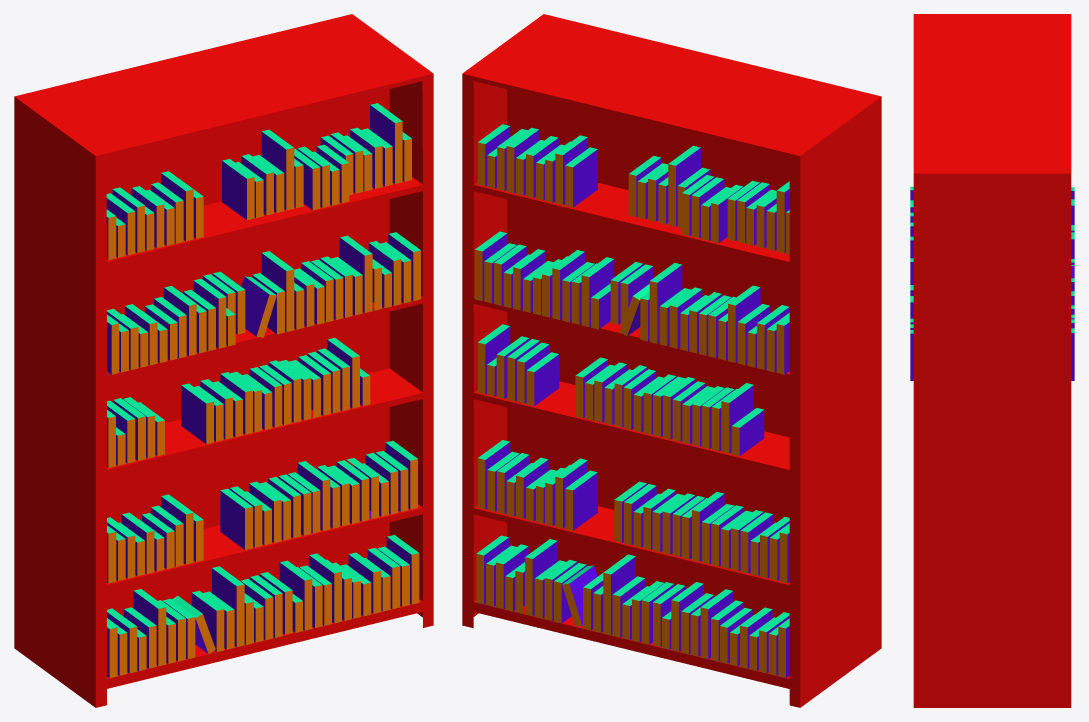
File: double_bookshelf_redid.fbx
The picture shows the model from 3 angles, left to right: view 1: azimuth 30°, elevation 25°; view 2: azimuth 150°, elevation 25°; view 3: azimuth 270°, elevation 25°; orthographic projection. The views are drawn at different scales.
Parts seen in each view (by area): view 1: double_bookshelf; view 2: double_bookshelf; view 3: double_bookshelf.
Boxes of the visible parts, box(x1,y1,x2,y2) form: double_bookshelf: box(14, 14, 433, 707); double_bookshelf: box(462, 14, 881, 707); double_bookshelf: box(910, 14, 1074, 707).
Bounding box in the file's own units: 236 × 369 × 103.
